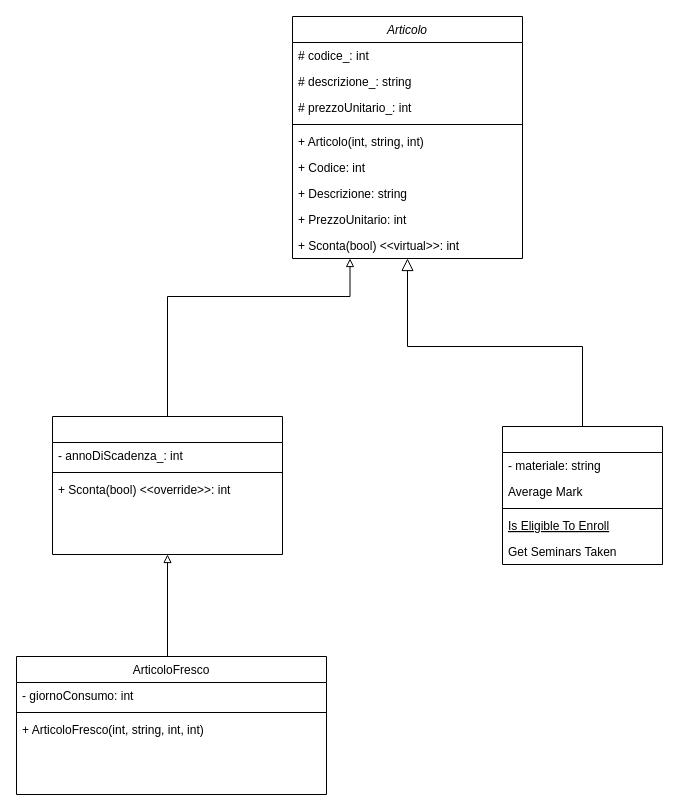
Some shapes in this 679 by 811 pixel diagram are drawn without their labels. The box of each missing label's shape, as (x1, y1, x2, y2) in pixels:
ArticoloAlimentare: (52, 416, 282, 554)
ArticoloNonAlimentare: (502, 426, 662, 564)
